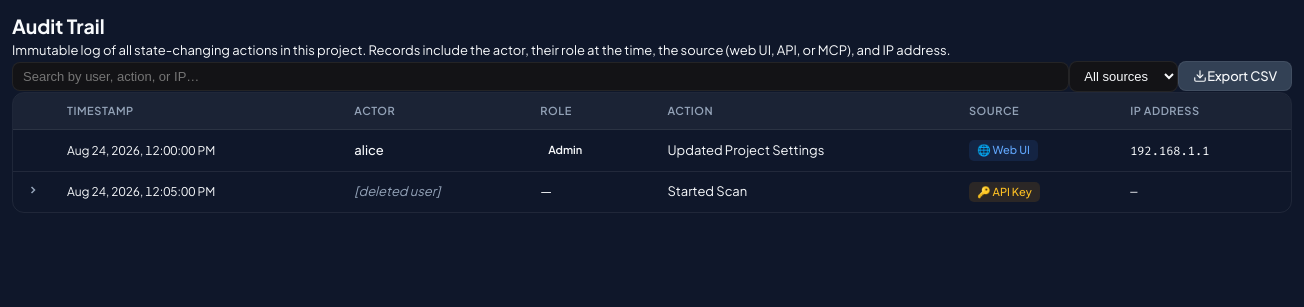
Test case: AuditTrailTab Component › renders list of audit logs
Expected: the text "alice" is shown, [354,142,384,158]
Expected: the text "[deleted user]" is shown, [354,183,440,199]
Click the text "Started Scan" at (141, 192), box [13,171,1291,212]
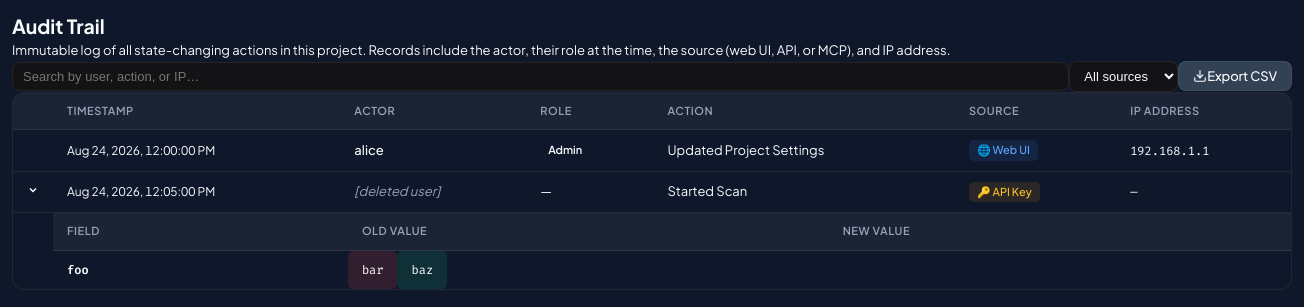
Result: the text "bar" is shown at [348,251,398,289]
Result: the text "baz" is shown at [398,251,447,289]
